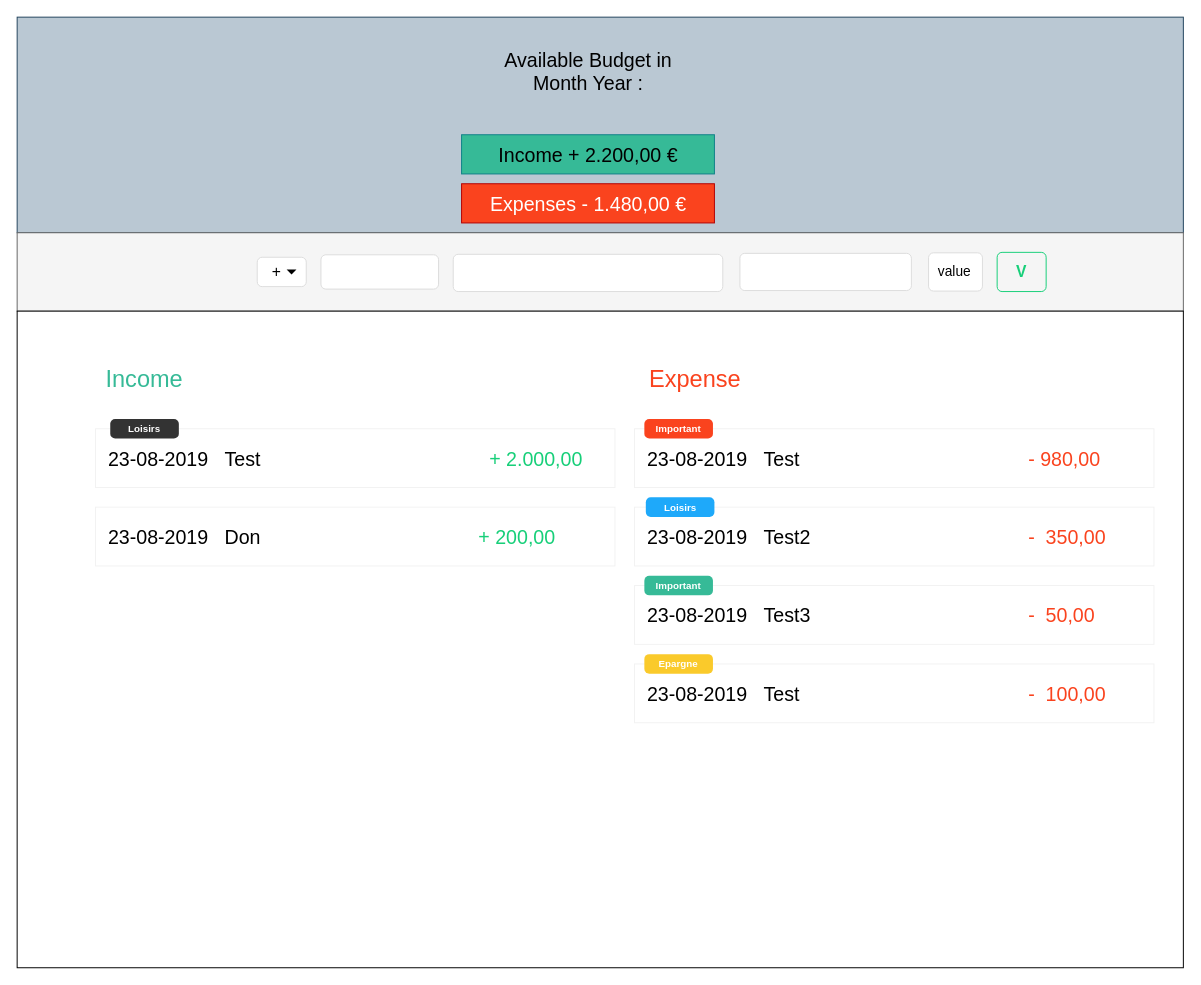
Some shapes in this 1201 by 985 pixel diagram are drawn without their labels. Each missing label, with the centre of its shape:
Catégorie: (825,271)
Date: (379,271)
Description: (587,272)
